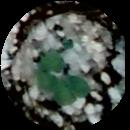Basil: (58, 76, 87, 104), (38, 54, 61, 89)
